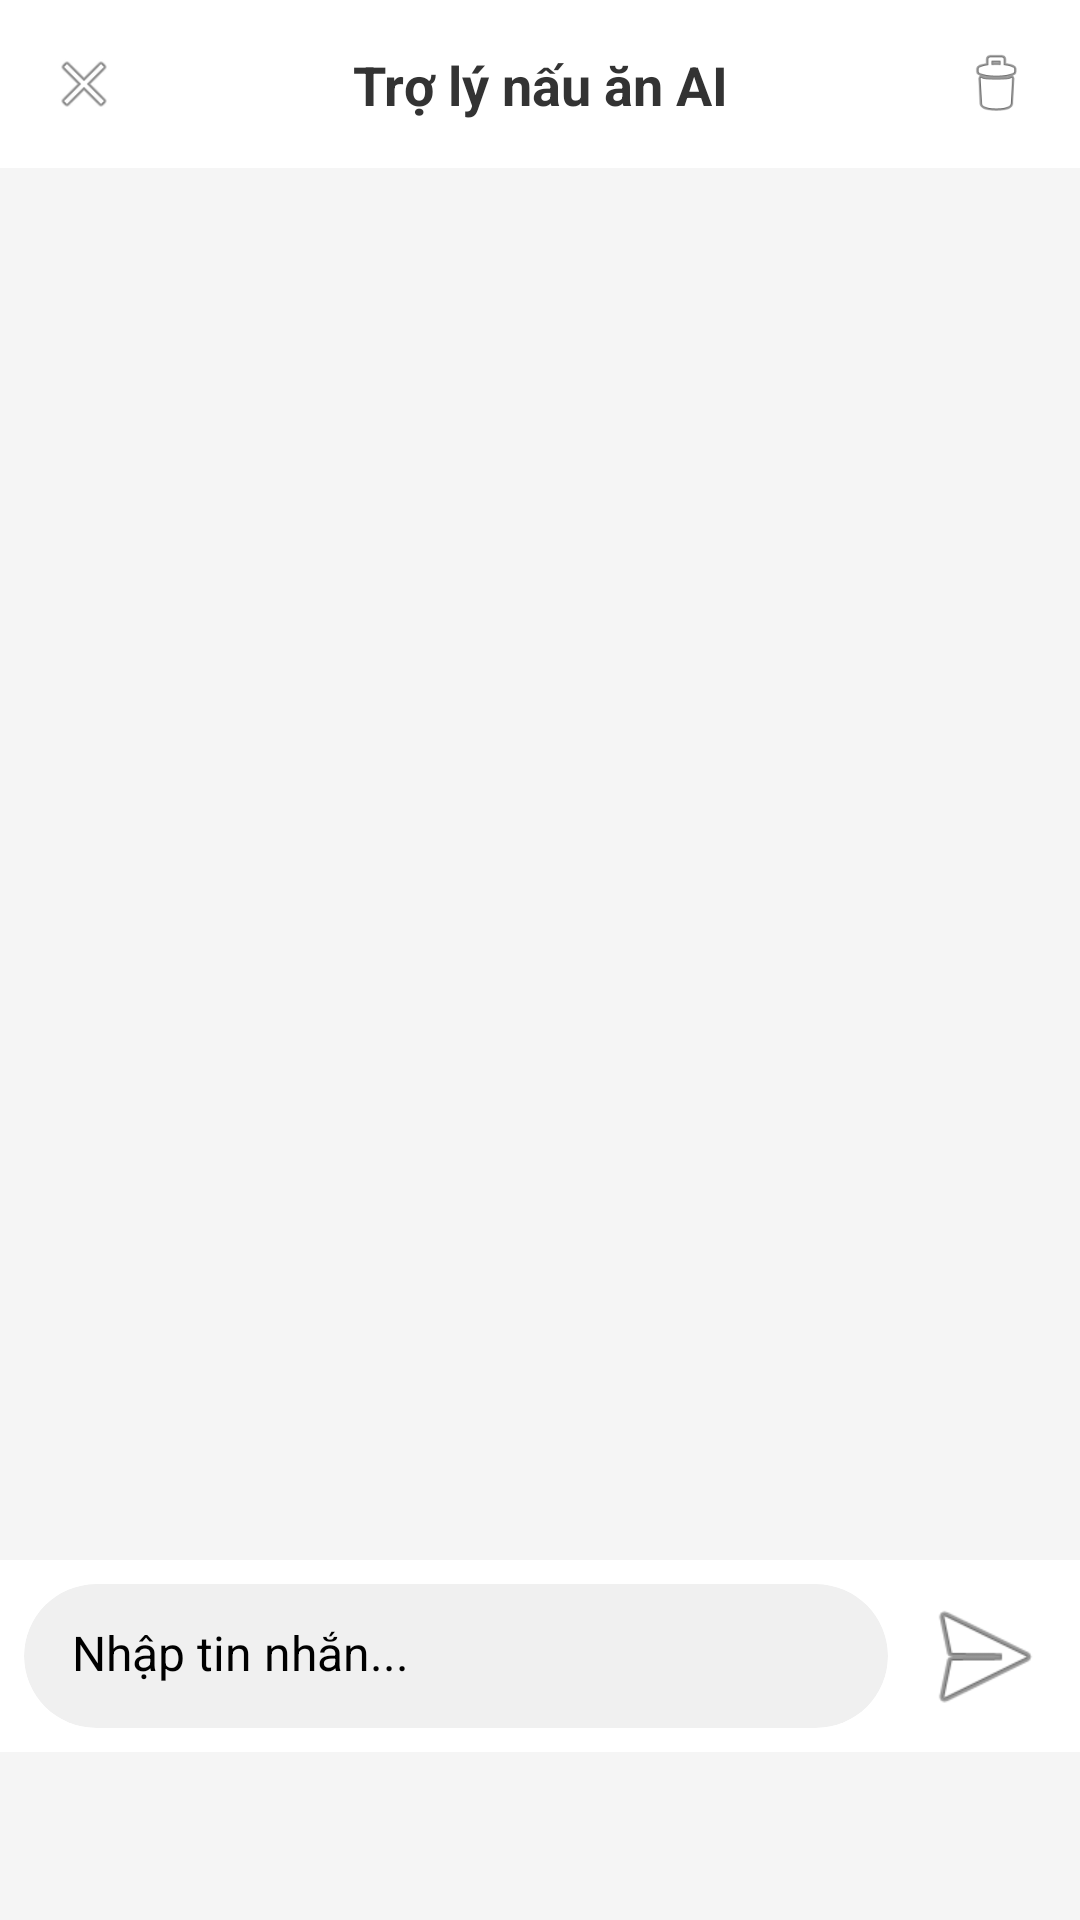

Icon click points for this 1080px×1920px phone screenshot, format (x=x, y=y):
Clear chat: (x=996, y=83)
Send: (x=985, y=1656)
